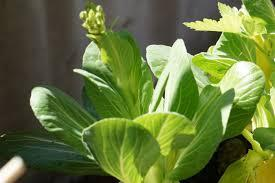Healthy-Pechay: (54, 25, 244, 181), (203, 3, 275, 183), (0, 126, 96, 173), (24, 80, 61, 124)
